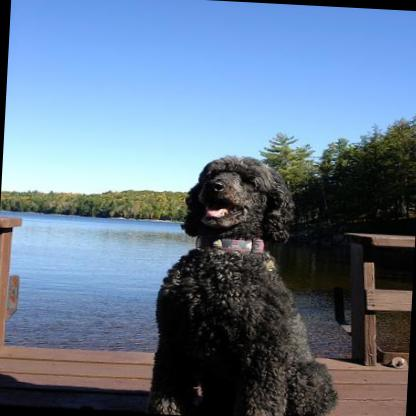standard_poodle: (146, 147, 349, 416)
